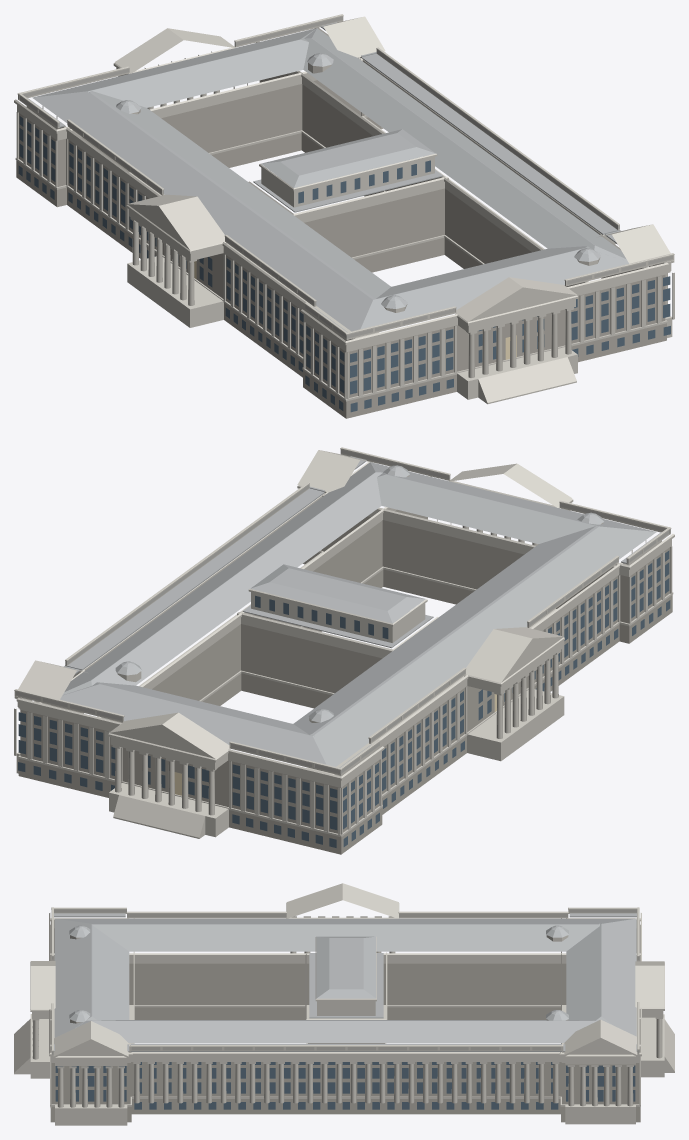
Rendered from dc-treasury.glb.
The picture shows the model from 3 angles, top to bottom: view 1: azimuth 30°, elevation 25°; view 2: azimuth 150°, elevation 25°; view 3: azimuth 270°, elevation 25°; orthographic projection. The views are drawn at different scales.
Visible parts, largest first — view 1: Treasury Building; view 2: Treasury Building; view 3: Treasury Building.
Boxes of the visible parts, <box> form: Treasury Building: <box>14,14,674,418</box>; Treasury Building: <box>14,447,674,854</box>; Treasury Building: <box>14,883,674,1125</box>.
Size of the model in its own units: 87.5 by 24.2 by 158.
